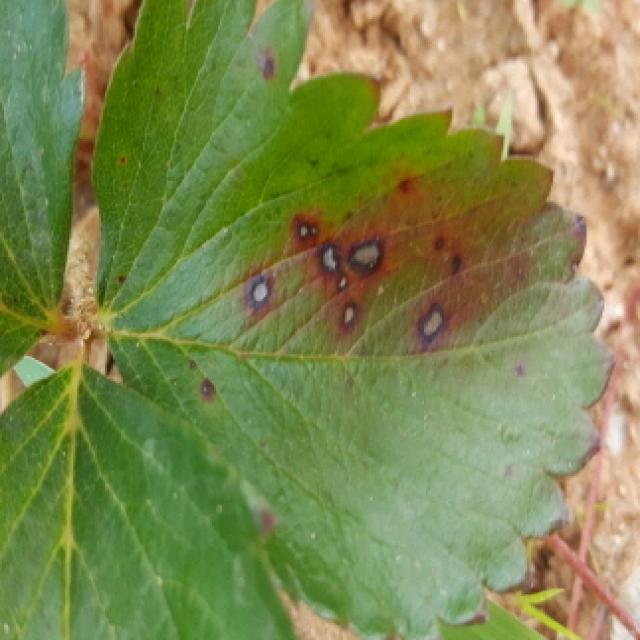Leaf Spot: (91, 0, 616, 640), (0, 361, 301, 640)
